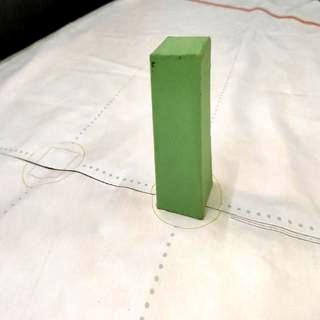greenbox: (150, 36, 212, 220)
